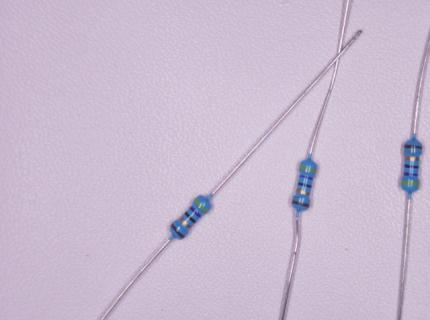Gold band: (179, 216, 192, 228), (296, 188, 310, 196), (405, 156, 419, 161)
Violet band: (189, 206, 202, 218), (299, 175, 313, 180), (404, 172, 418, 176)
Yellow band: (194, 197, 209, 213), (299, 165, 317, 173), (401, 180, 419, 185)
